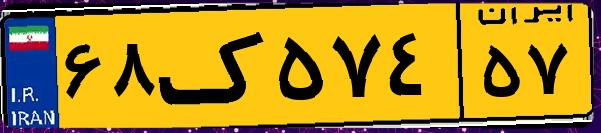4: (385, 28, 445, 110)
5: (270, 28, 330, 110), (475, 38, 525, 113)
6: (57, 26, 110, 100)
7: (330, 28, 385, 110), (525, 38, 570, 115)
8: (110, 28, 158, 98)
ک: (158, 12, 270, 120)
